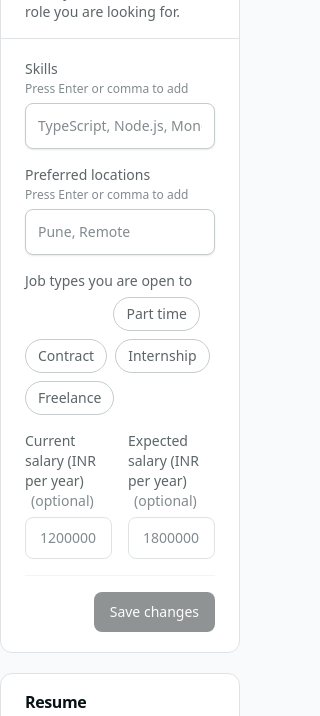
Test: job type selection › confirms a successful save and then disables the button again
(page scrolled)
Click the button "Contract".
click(66, 356)  # box left=25, top=339, right=107, bottom=373
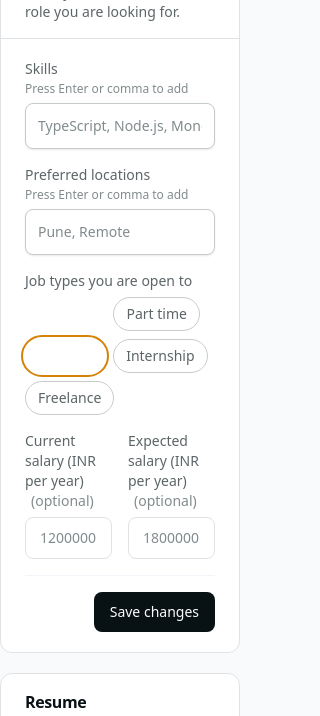
Click the button "Save changes".
click(154, 612)  # box left=94, top=592, right=215, bottom=632
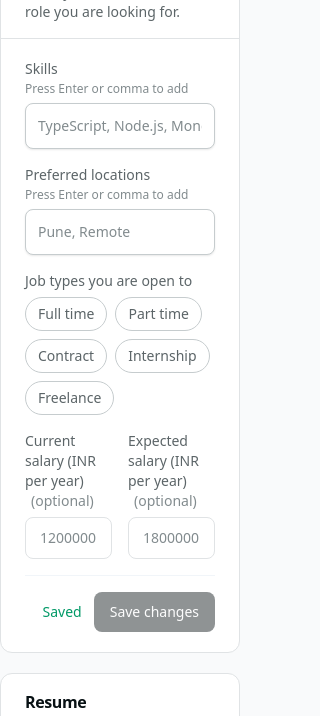
Now the text "Saved" is shown, box left=42, top=602, right=82, bottom=622
